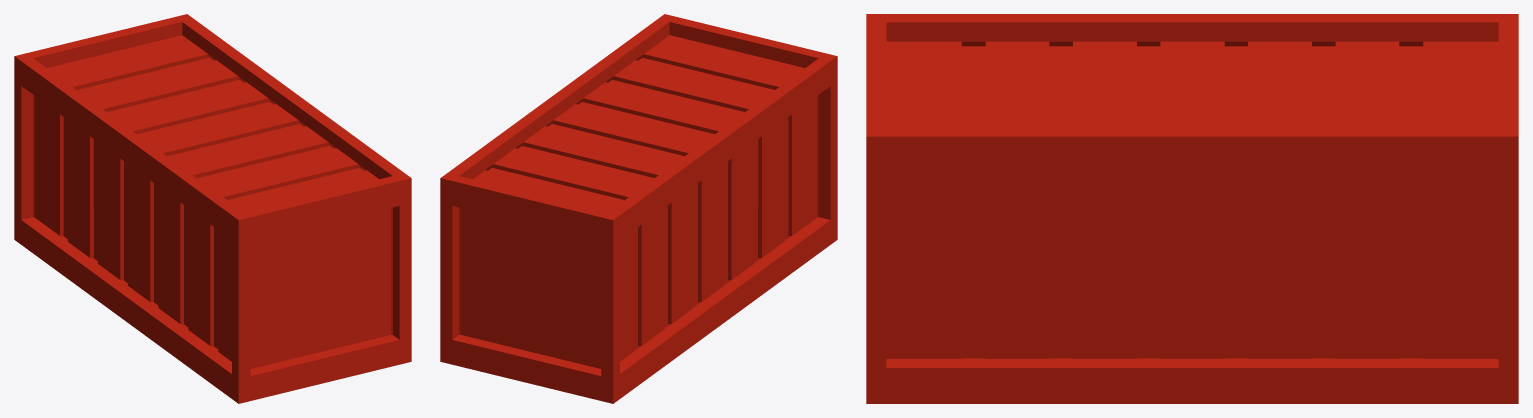
File: sea_container.obj
The picture shows the model from 3 angles, left to right: view 1: azimuth 30°, elevation 25°; view 2: azimuth 150°, elevation 25°; view 3: azimuth 270°, elevation 25°; orthographic projection. The views are drawn at different scales.
Visible parts, largest first — view 1: House_01; view 2: House_01; view 3: House_01.
Boxes of the visible parts, x1,y1,x2,y2 form: House_01: [14, 14, 411, 403]; House_01: [440, 14, 837, 403]; House_01: [866, 14, 1518, 403].
Bounding box in the file's own units: 1.84 × 1.87 × 4.13.
